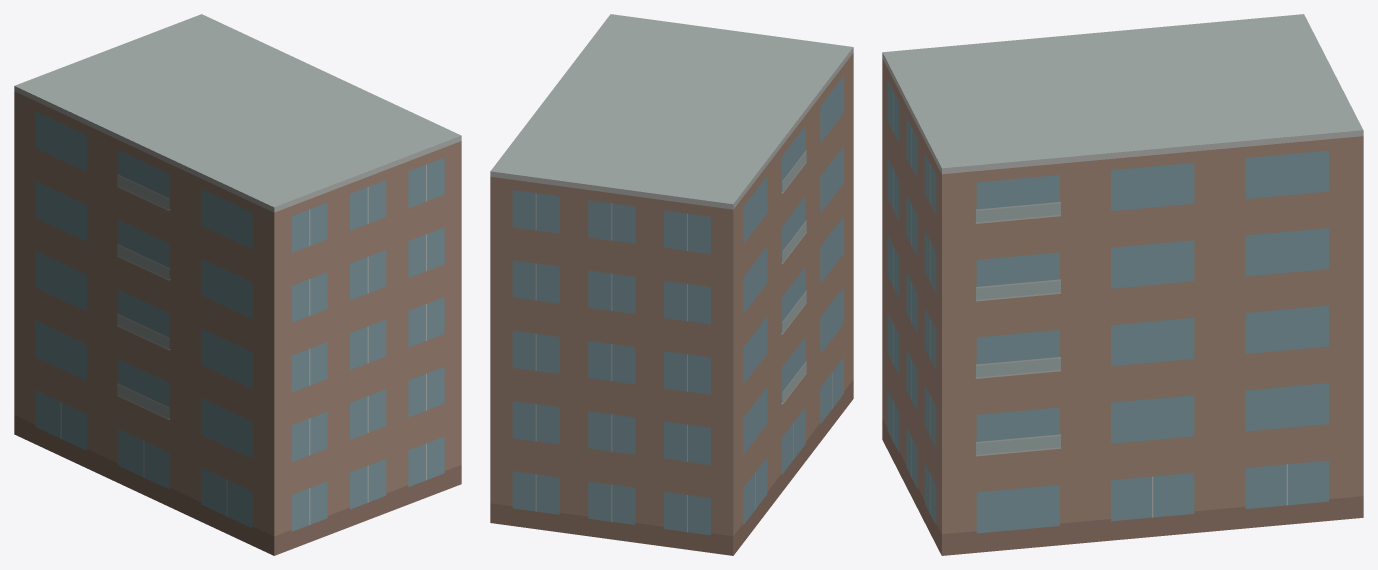
Rendered from survey-upis-32735678.glb.
The picture shows the model from 3 angles, left to right: view 1: azimuth 30°, elevation 25°; view 2: azimuth 150°, elevation 25°; view 3: azimuth 270°, elevation 25°; orthographic projection. The views are drawn at different scales.
Parts seen in each view (by area): view 1: survey-upis-32735678.tmp; view 2: survey-upis-32735678.tmp; view 3: survey-upis-32735678.tmp.
Part boxes in pixels (<box>): survey-upis-32735678.tmp: <box>14,14,461,555</box>; survey-upis-32735678.tmp: <box>490,14,853,555</box>; survey-upis-32735678.tmp: <box>882,14,1363,555</box>.
Bounding box in the file's own units: 13.77 × 16.1 × 18.13.
